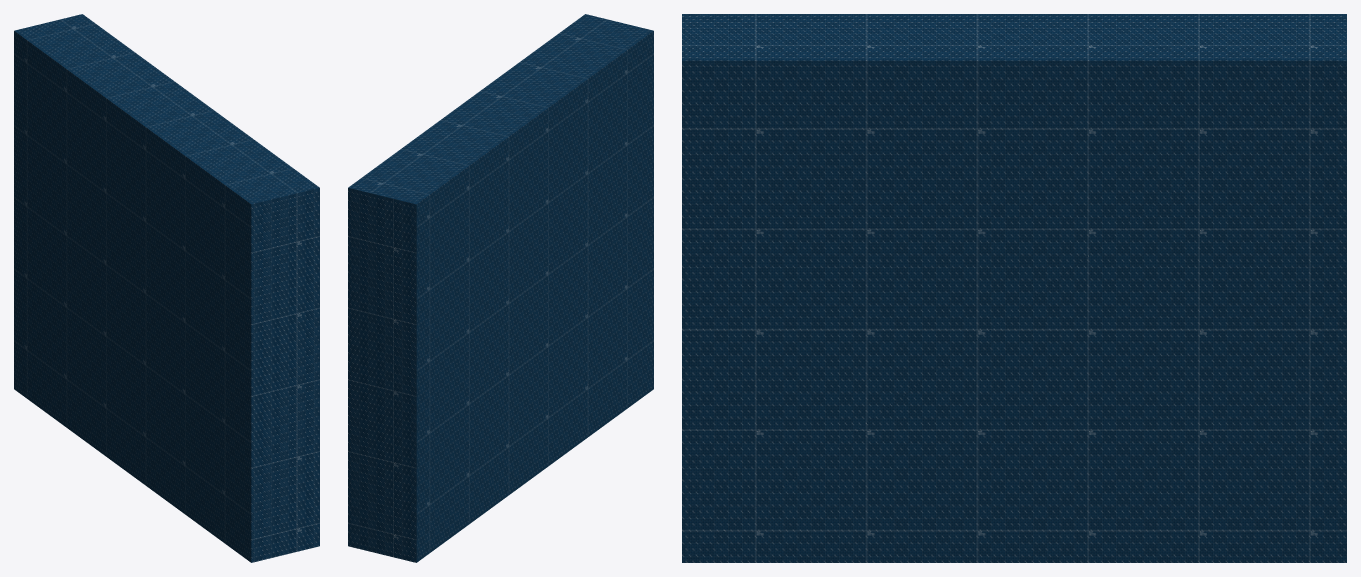
The model's file is WallA6mX5m.fbx.
The picture shows the model from 3 angles, left to right: view 1: azimuth 30°, elevation 25°; view 2: azimuth 150°, elevation 25°; view 3: azimuth 270°, elevation 25°; orthographic projection. The views are drawn at different scales.
Visible parts, largest first — view 1: Box035; view 2: Box035; view 3: Box035.
Boxes of the visible parts, box(x1,y1,x2,y2) form: Box035: box(14, 14, 319, 562); Box035: box(348, 14, 653, 562); Box035: box(682, 14, 1346, 562).
Size of the model in its own units: 100 by 500 by 600.
1 material, 1 textured.
